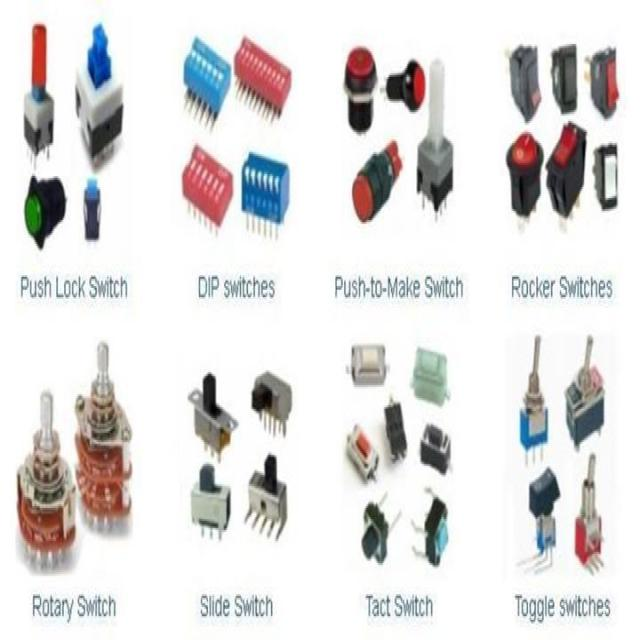Push button: (72, 21, 130, 168), (416, 58, 452, 216), (349, 134, 405, 234), (24, 23, 54, 166), (25, 174, 66, 249), (343, 47, 376, 133), (384, 59, 425, 112), (83, 178, 101, 241)
switch: (74, 346, 134, 528), (17, 391, 77, 564), (180, 143, 239, 250), (232, 36, 290, 125), (182, 36, 231, 132), (564, 335, 604, 452), (187, 371, 238, 460), (544, 120, 586, 222), (505, 130, 546, 232), (240, 152, 288, 238), (245, 451, 287, 540), (519, 335, 547, 467), (574, 453, 602, 570), (190, 462, 231, 539), (529, 466, 560, 562), (412, 486, 449, 566), (251, 370, 292, 438), (508, 45, 540, 123), (586, 47, 618, 119), (411, 346, 449, 406), (346, 422, 378, 483), (550, 45, 577, 115), (361, 499, 390, 563), (419, 421, 450, 476), (383, 398, 408, 464), (592, 144, 617, 210), (349, 343, 387, 385)
